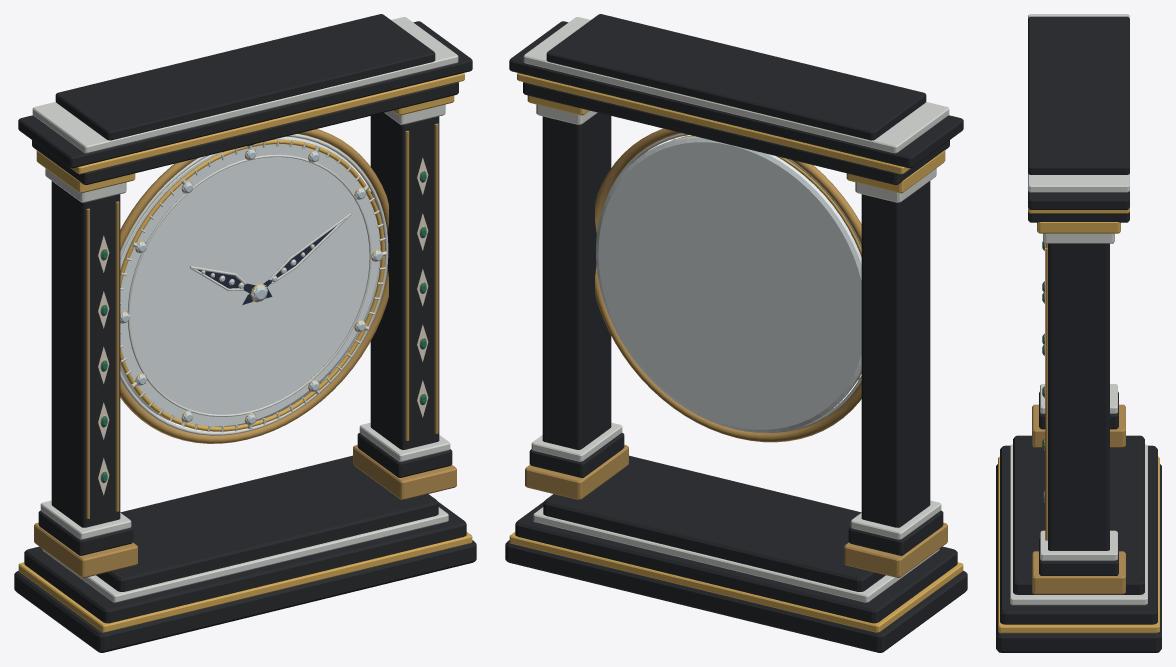
The model's file is mystery_clock.fbx.
3 renders of one model, left to right at view 1: azimuth 30°, elevation 25°; view 2: azimuth 150°, elevation 25°; view 3: azimuth 270°, elevation 25°, orthographic. The views are drawn at different scales.
Parts seen in each view (by area): view 1: Body, MinuteHand, HourHand; view 2: Body; view 3: Body.
Part boxes in pixels (x1,y1,x2,y2): Body: (14, 14, 476, 652); MinuteHand: (242, 213, 350, 305); HourHand: (189, 266, 272, 298); Body: (505, 14, 967, 652); Body: (996, 14, 1161, 652).
Size of the model in its own units: 0.22 by 0.2625 by 0.083.
